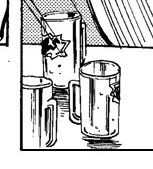beer: (67, 57, 124, 139), (38, 8, 89, 90)
cup: (64, 55, 126, 142), (38, 10, 88, 89)
